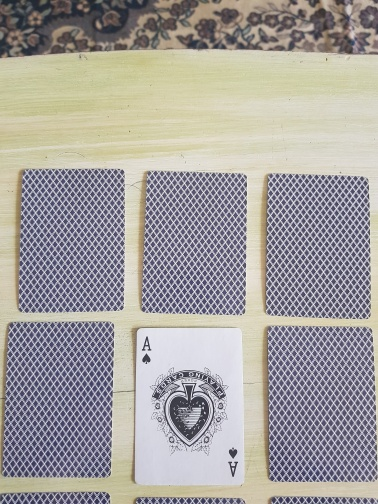ace: (132, 326, 247, 486)
